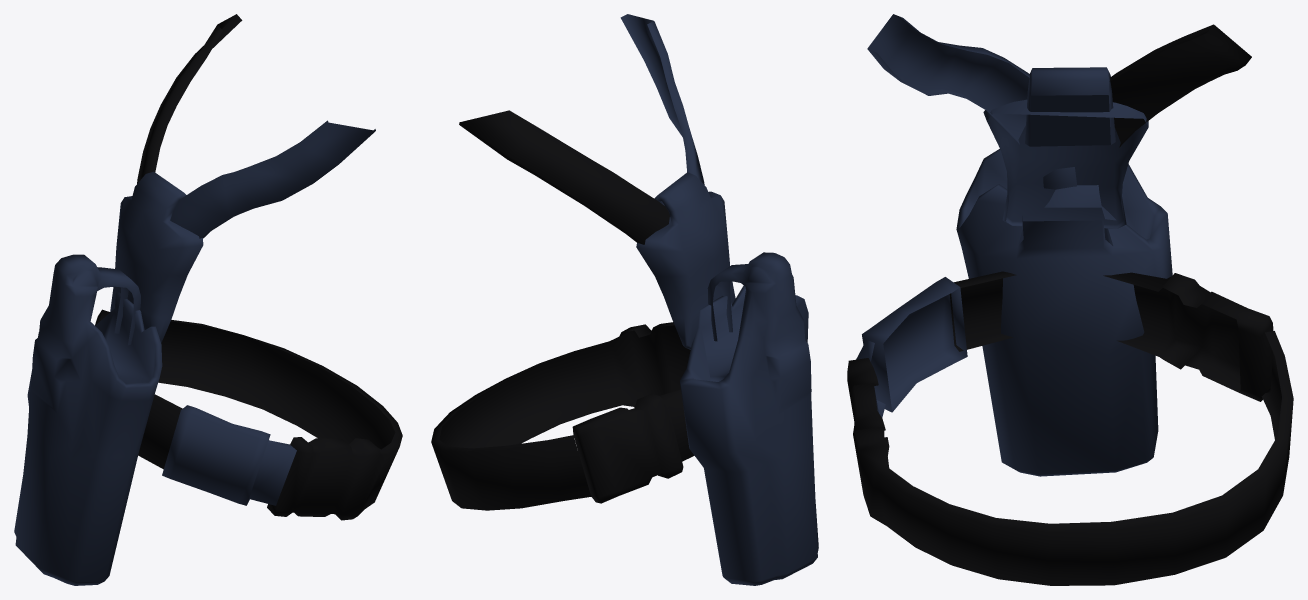
Rendered from prota.holster.v4.low.glb.
The picture shows the model from 3 angles, left to right: view 1: azimuth 30°, elevation 25°; view 2: azimuth 150°, elevation 25°; view 3: azimuth 270°, elevation 25°; orthographic projection. The views are drawn at different scales.
Parts seen in each view (by area): view 1: Prota_Holster; view 2: Prota_Holster; view 3: Prota_Holster.
Part boxes in pixels (x1=…): Prota_Holster: x1=14, y1=14, x2=402, y2=585; Prota_Holster: x1=431, y1=14, x2=818, y2=585; Prota_Holster: x1=847, y1=14, x2=1293, y2=585.
Bounding box in the file's own units: 0.2499 × 0.3149 × 0.2247.
